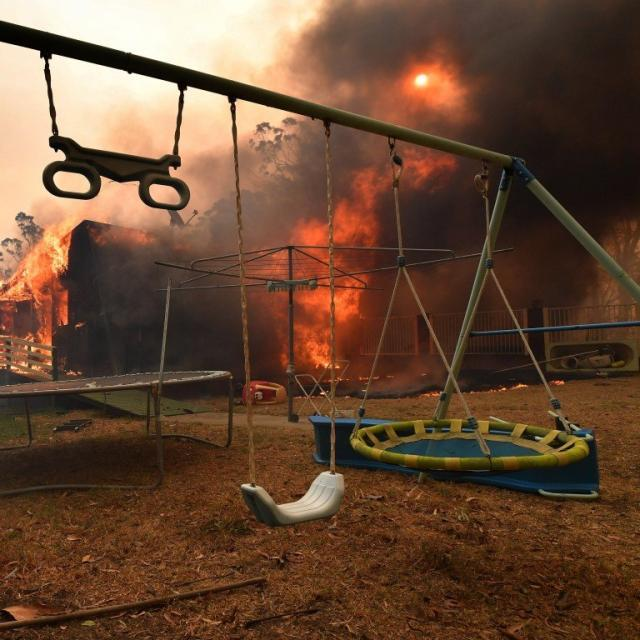Fire: (247, 200, 408, 384), (346, 64, 462, 213), (0, 220, 96, 384)
Smoke: (468, 2, 640, 296), (88, 165, 246, 378), (192, 52, 354, 194), (287, 0, 466, 60)
